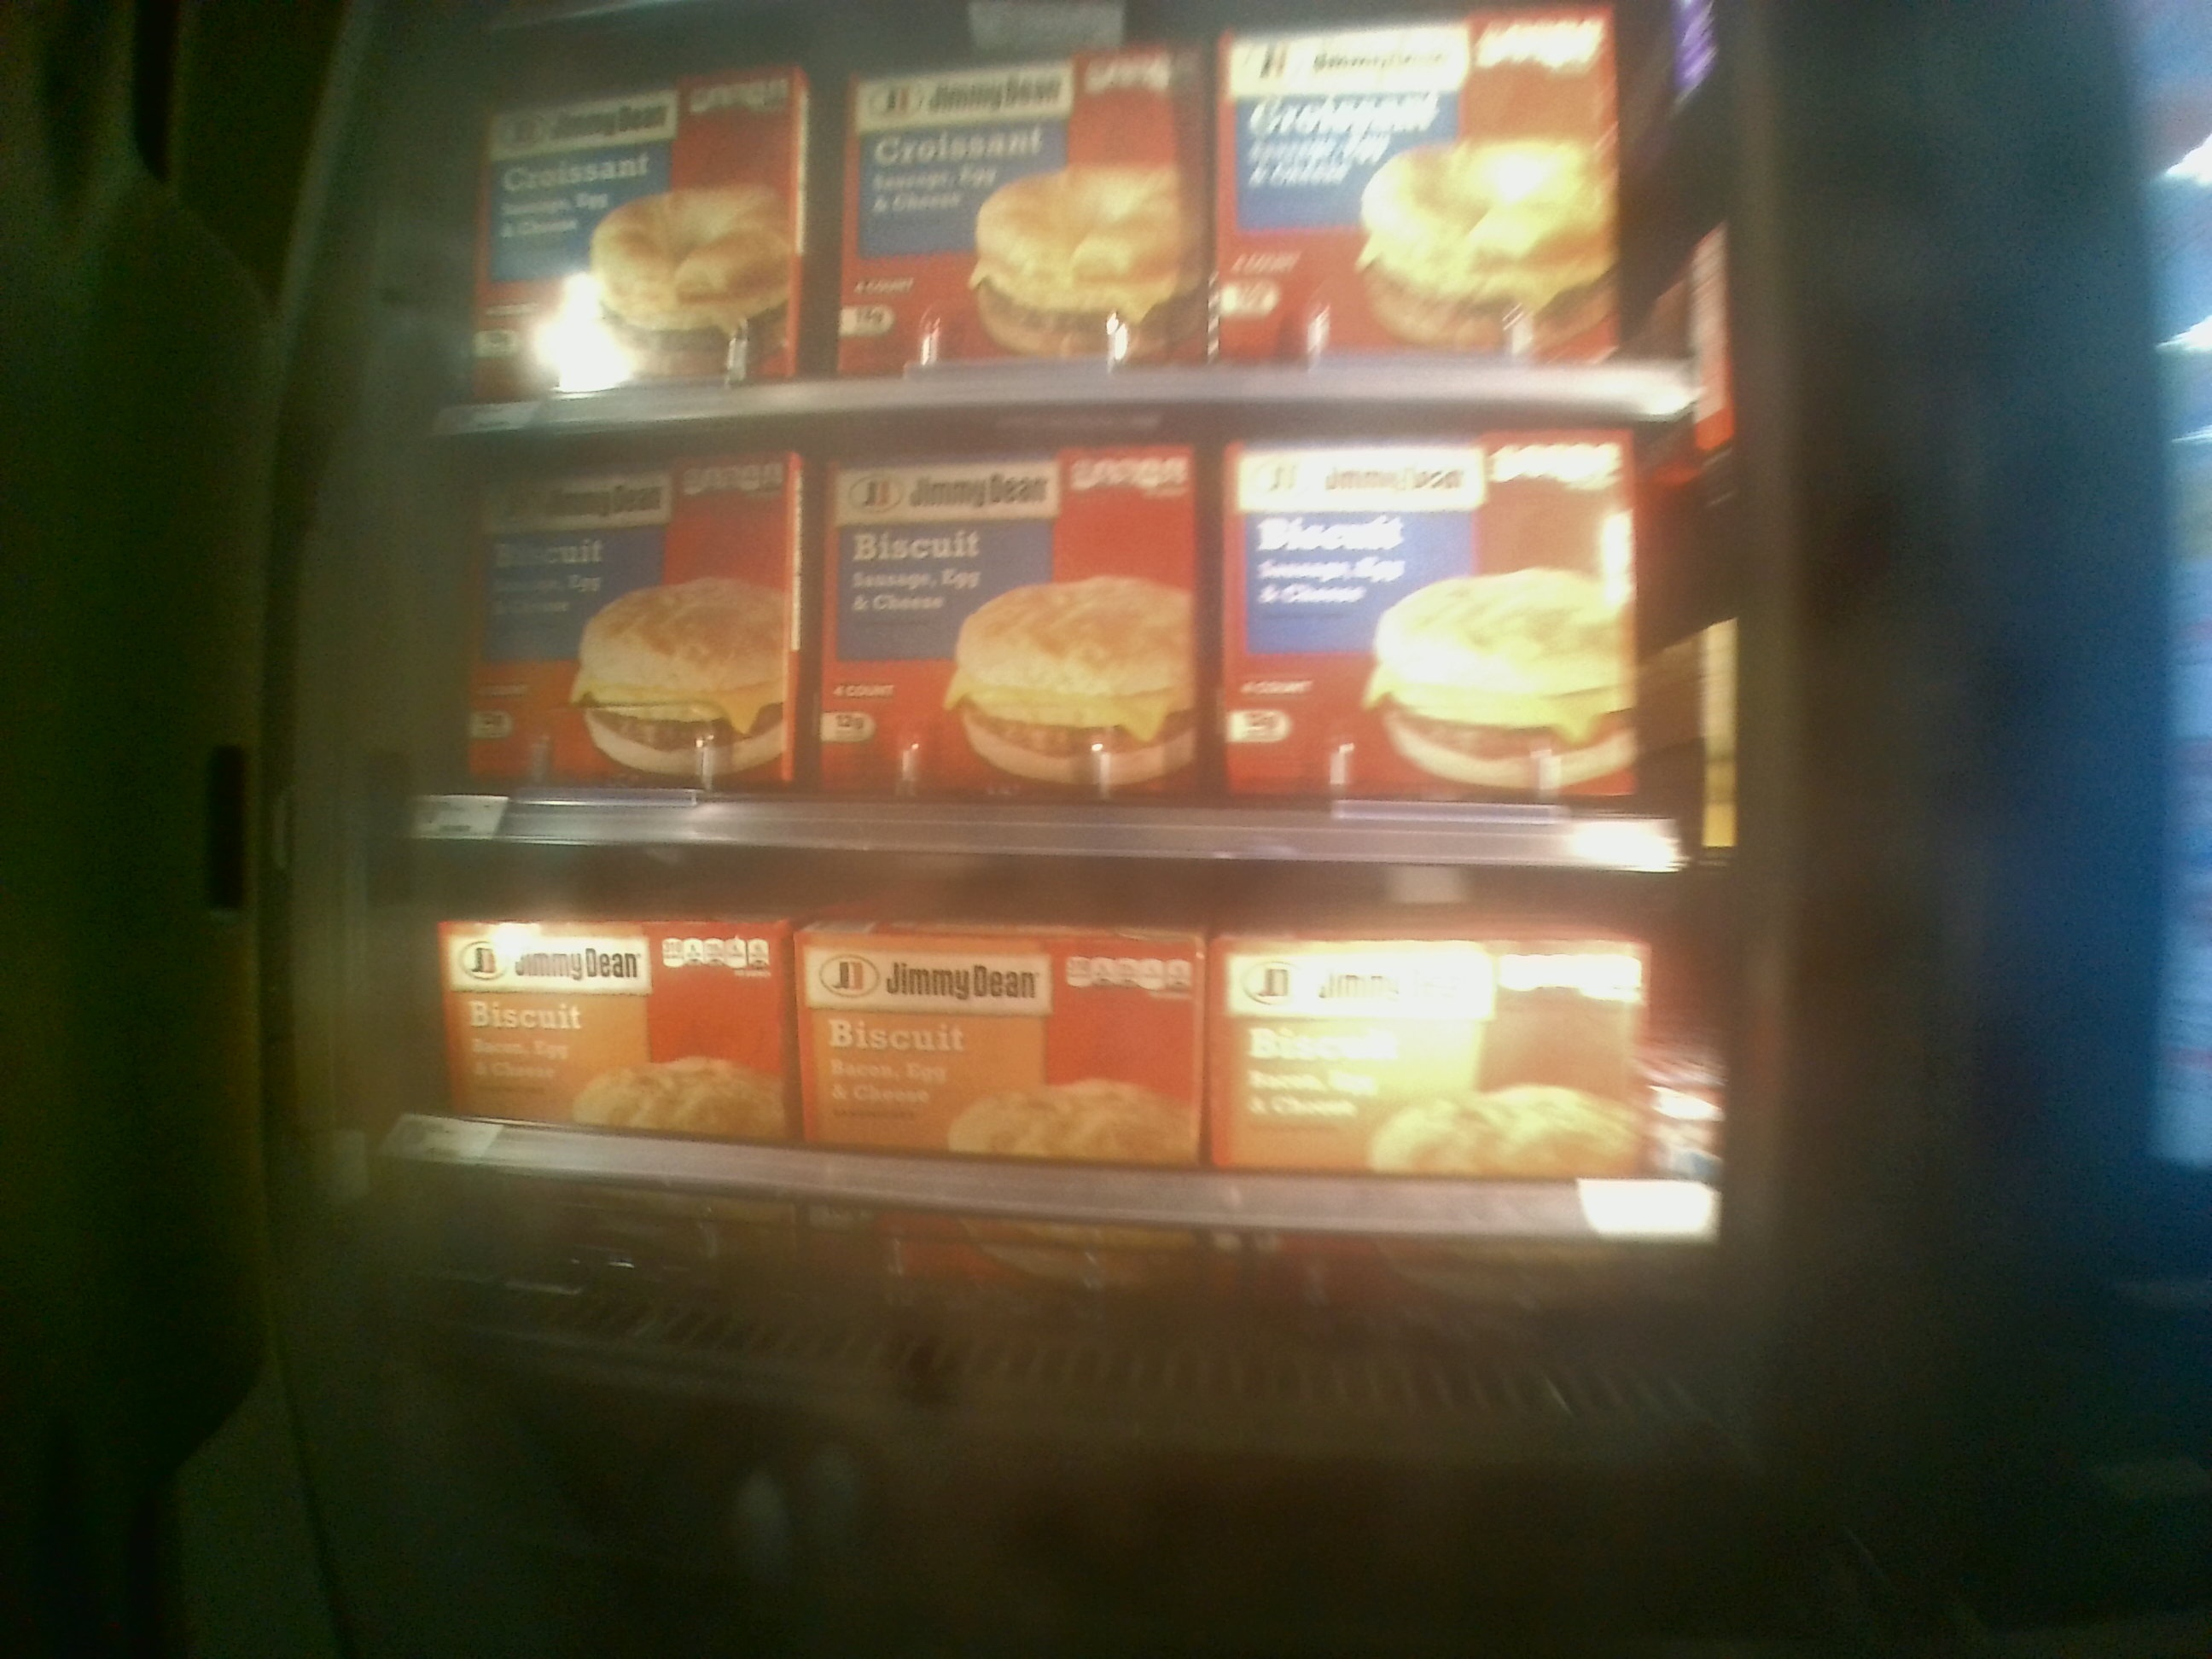shelf: (409, 836, 1735, 1297), (409, 427, 1716, 868)
